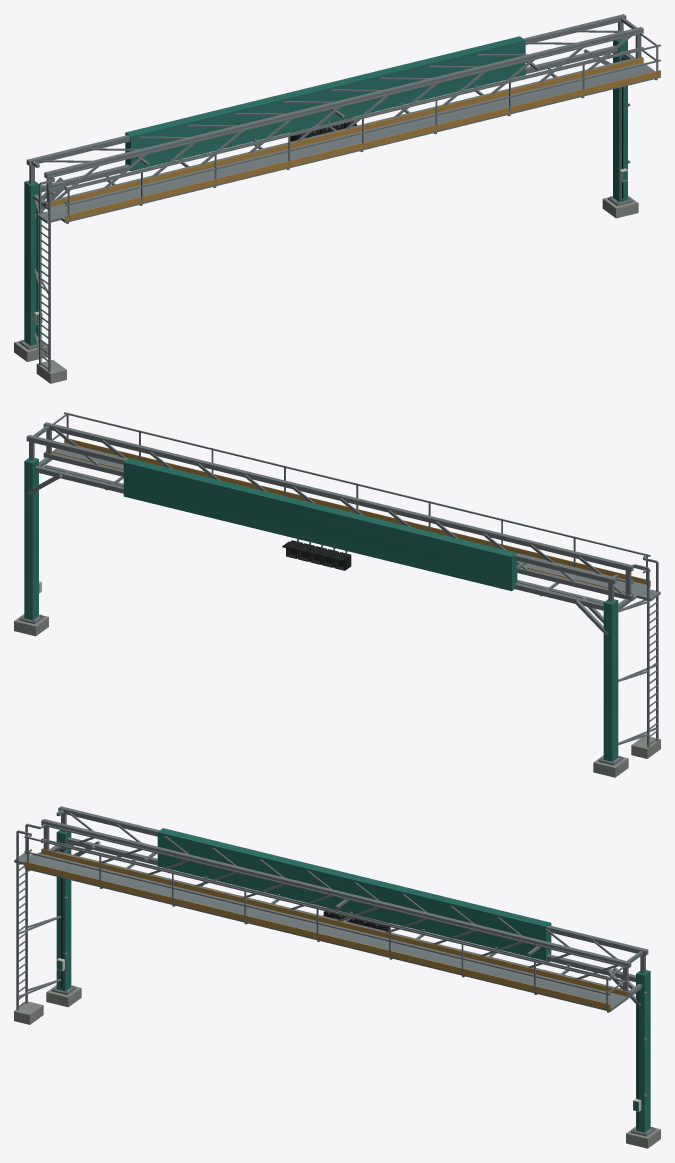
Rendered from aurel-start-gantry.glb.
3 views of the same model, one above another, from view 1: azimuth 30°, elevation 25°; view 2: azimuth 150°, elevation 25°; view 3: azimuth 330°, elevation 25° (orthographic).
Parts seen in each view (by area): view 1: A07_PORTAL_LOD0_DETAILS, A07_PORTAL_LOD0_TOP, A07_PORTAL_LOD1_DETAILS, A07_PORTAL_LOD1_TOP, A07_PORTAL_LOD0_COLUMN_LEFT, A07_PORTAL_LOD0_COLUMN_RIGHT, A07_PORTAL_LOD1_COLUMN_LEFT, A07_PORTAL_LOD1_COLUMN_RIGHT; view 2: A07_PORTAL_LOD1_TOP, A07_PORTAL_LOD0_TOP, A07_PORTAL_LOD0_DETAILS, A07_PORTAL_LOD1_DETAILS, A07_PORTAL_LOD0_COLUMN_LEFT, A07_PORTAL_LOD0_COLUMN_RIGHT, A07_PORTAL_LOD1_COLUMN_LEFT, A07_PORTAL_LOD1_COLUMN_RIGHT; view 3: A07_PORTAL_LOD0_DETAILS, A07_PORTAL_LOD1_TOP, A07_PORTAL_LOD0_TOP, A07_PORTAL_LOD1_DETAILS, A07_PORTAL_LOD0_COLUMN_RIGHT, A07_PORTAL_LOD0_COLUMN_LEFT, A07_PORTAL_LOD1_COLUMN_RIGHT, A07_PORTAL_LOD1_COLUMN_LEFT.
Boxes of the visible parts, x1,y1,x2,y2 form: A07_PORTAL_LOD0_DETAILS: (34, 32, 660, 382); A07_PORTAL_LOD0_TOP: (27, 14, 643, 207); A07_PORTAL_LOD1_DETAILS: (34, 32, 660, 383); A07_PORTAL_LOD1_TOP: (26, 14, 643, 208); A07_PORTAL_LOD0_COLUMN_LEFT: (14, 177, 68, 360); A07_PORTAL_LOD0_COLUMN_RIGHT: (584, 38, 637, 216); A07_PORTAL_LOD1_COLUMN_LEFT: (14, 177, 68, 361); A07_PORTAL_LOD1_COLUMN_RIGHT: (585, 38, 638, 218); A07_PORTAL_LOD1_TOP: (26, 422, 633, 610); A07_PORTAL_LOD0_TOP: (27, 422, 632, 610); A07_PORTAL_LOD0_DETAILS: (39, 412, 660, 757); A07_PORTAL_LOD1_DETAILS: (39, 412, 660, 758); A07_PORTAL_LOD0_COLUMN_LEFT: (575, 596, 625, 775); A07_PORTAL_LOD0_COLUMN_RIGHT: (15, 458, 67, 634); A07_PORTAL_LOD1_COLUMN_LEFT: (574, 597, 628, 777); A07_PORTAL_LOD1_COLUMN_RIGHT: (14, 458, 67, 636); A07_PORTAL_LOD0_DETAILS: (14, 823, 641, 1127); A07_PORTAL_LOD1_TOP: (41, 806, 648, 997); A07_PORTAL_LOD0_TOP: (41, 806, 647, 996); A07_PORTAL_LOD1_DETAILS: (14, 824, 641, 1128); A07_PORTAL_LOD0_COLUMN_RIGHT: (607, 967, 655, 1146); A07_PORTAL_LOD0_COLUMN_LEFT: (47, 830, 99, 1005); A07_PORTAL_LOD1_COLUMN_RIGHT: (607, 968, 660, 1148); A07_PORTAL_LOD1_COLUMN_LEFT: (46, 830, 100, 1007).
Bounding box in the file's own units: 22.66 × 6.86 × 2.96.
1 material, 1 textured.
